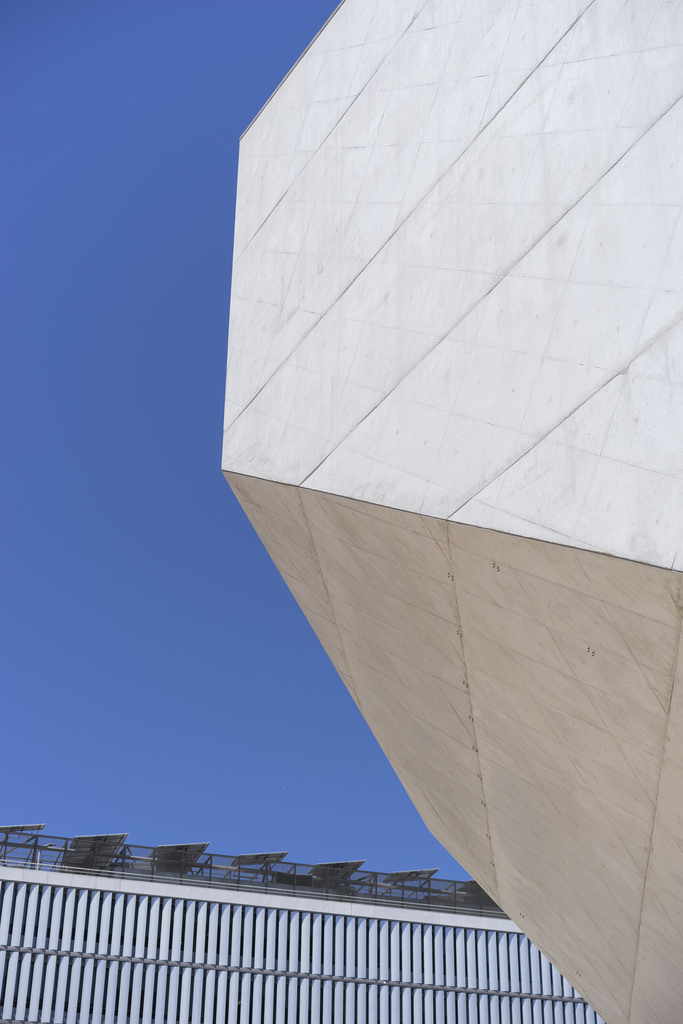musica: (220, 0, 682, 1023)
